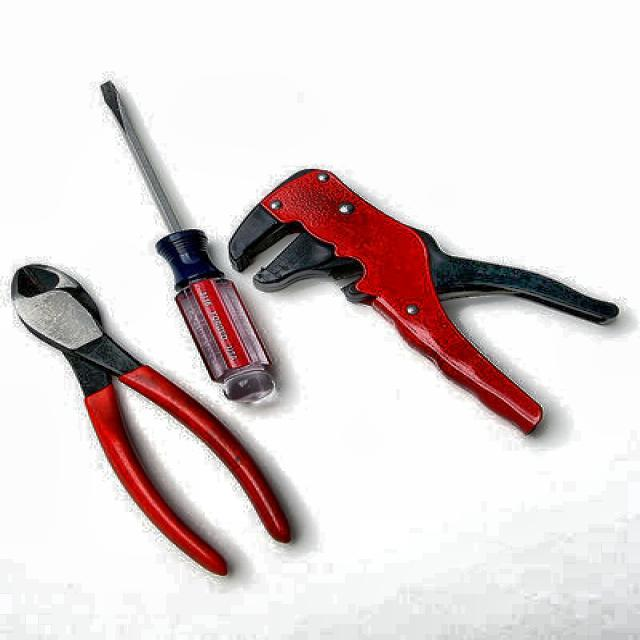screwdriver: (100, 80, 276, 402)
